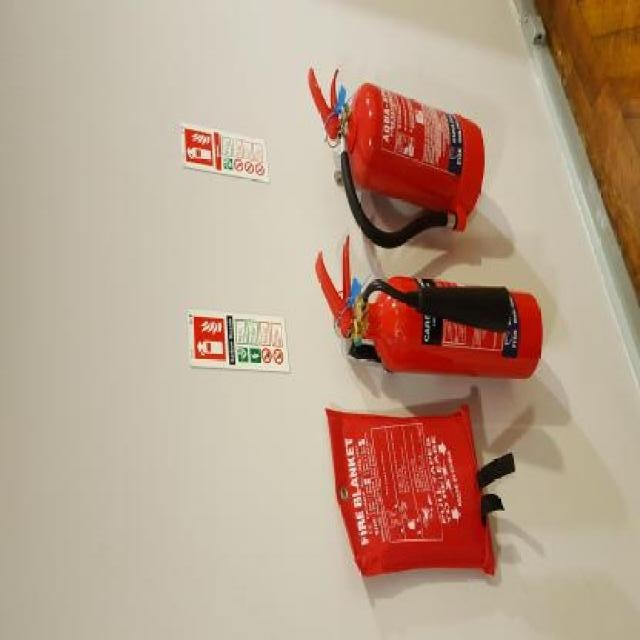fire extinguisher: (314, 239, 541, 385), (307, 73, 484, 247)
